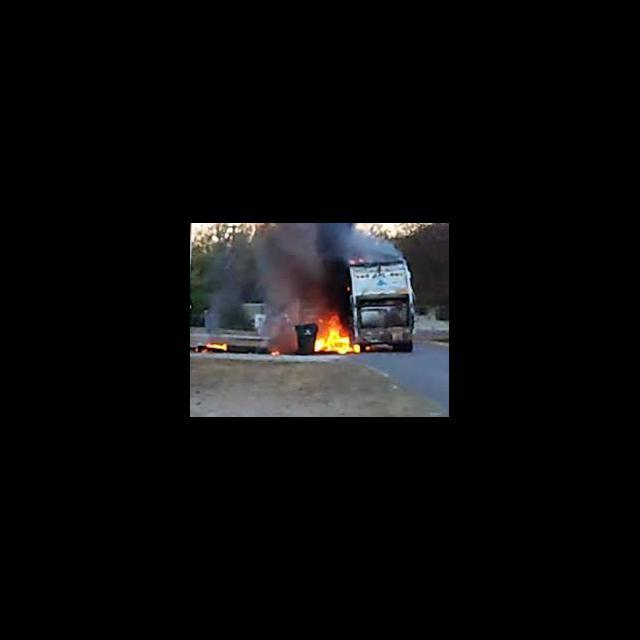Fire: (316, 314, 361, 359), (204, 341, 231, 352), (350, 258, 366, 267), (270, 348, 280, 358), (366, 345, 374, 351)
Smoke: (258, 228, 346, 310), (209, 247, 238, 333), (350, 228, 402, 256), (264, 311, 296, 347)
